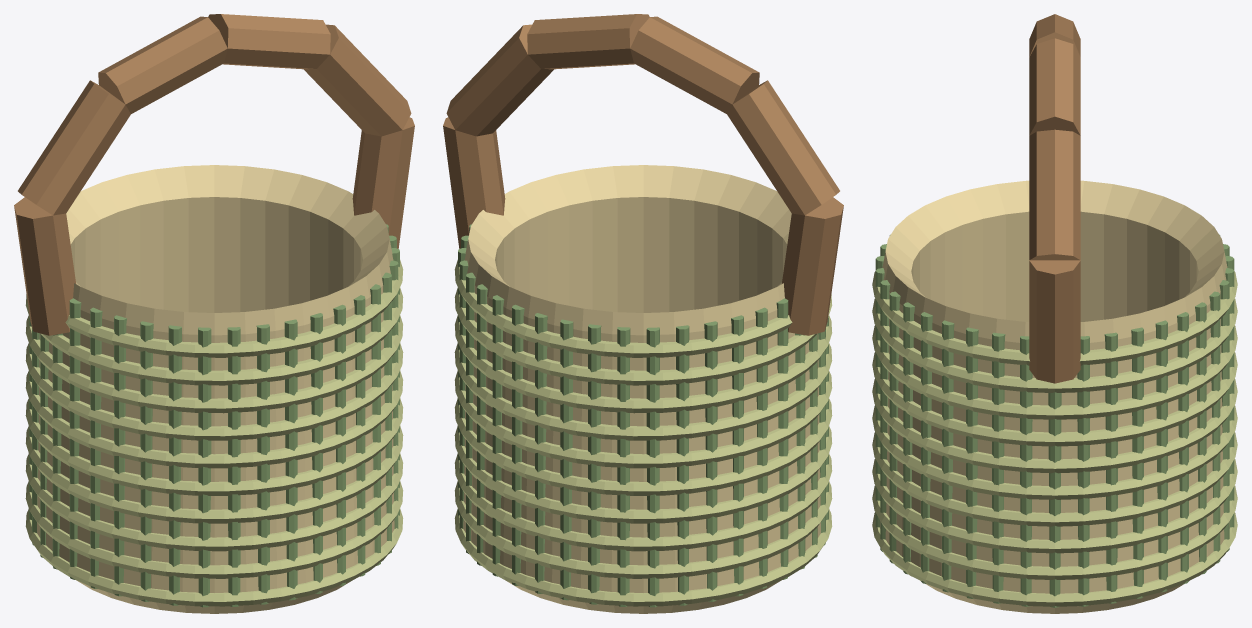
The model's file is bamboo_takekago.glb.
The picture shows the model from 3 angles, left to right: view 1: azimuth 30°, elevation 25°; view 2: azimuth 150°, elevation 25°; view 3: azimuth 270°, elevation 25°; orthographic projection. The views are drawn at different scales.
Visible parts, largest first — view 1: Tall cylindrical bamboo basket, Bent carrying handle_01, Bent carrying handle_02, Bent carrying handle_00, Bent carrying handle_04, Horizontal basket weft.007, Horizontal basket weft.006, Horizontal basket weft.005, Bent carrying handle_03, Horizontal basket weft.004, Horizontal basket weft.003, Horizontal basket weft.002 (+23 smaller); view 2: Tall cylindrical bamboo basket, Bent carrying handle_01, Bent carrying handle_02, Bent carrying handle_00, Bent carrying handle_04, Horizontal basket weft.007, Horizontal basket weft.006, Horizontal basket weft.005, Bent carrying handle_03, Horizontal basket weft.004, Horizontal basket weft.003, Horizontal basket weft.002 (+23 smaller); view 3: Tall cylindrical bamboo basket, Bent carrying handle_04, Bent carrying handle_05, Horizontal basket weft.007, Horizontal basket weft.006, Horizontal basket weft.008, Horizontal basket weft.005, Horizontal basket weft.004, Horizontal basket weft.003, Horizontal basket weft.002, Horizontal basket weft.001, Horizontal basket weft (+22 smaller).
Part boxes in pixels (x1,y1,x2,y2): Tall cylindrical bamboo basket: [37, 165, 394, 613]; Bent carrying handle_01: [18, 80, 130, 215]; Bent carrying handle_02: [98, 16, 227, 113]; Bent carrying handle_00: [14, 197, 75, 335]; Bent carrying handle_04: [304, 24, 411, 136]; Horizontal basket weft.007: [25, 315, 402, 413]; Horizontal basket weft.006: [25, 342, 403, 440]; Horizontal basket weft.005: [25, 370, 403, 468]; Bent carrying handle_03: [208, 14, 330, 69]; Horizontal basket weft.004: [25, 398, 403, 495]; Horizontal basket weft.003: [25, 425, 403, 523]; Horizontal basket weft.002: [25, 453, 403, 551]; Tall cylindrical bamboo basket: [463, 165, 820, 613]; Bent carrying handle_01: [727, 80, 839, 215]; Bent carrying handle_02: [630, 16, 759, 113]; Bent carrying handle_00: [782, 197, 843, 335]; Bent carrying handle_04: [446, 24, 553, 136]; Horizontal basket weft.007: [455, 315, 832, 413]; Horizontal basket weft.006: [454, 342, 832, 440]; Horizontal basket weft.005: [454, 370, 832, 468]; Bent carrying handle_03: [527, 14, 649, 69]; Horizontal basket weft.004: [454, 398, 832, 495]; Horizontal basket weft.003: [454, 425, 832, 523]; Horizontal basket weft.002: [454, 453, 832, 551]; Tall cylindrical bamboo basket: [880, 180, 1229, 613]; Bent carrying handle_04: [1029, 129, 1080, 260]; Bent carrying handle_05: [1029, 260, 1080, 383]; Horizontal basket weft.007: [872, 325, 1237, 419]; Horizontal basket weft.006: [872, 352, 1237, 446]; Horizontal basket weft.008: [872, 298, 1237, 392]; Horizontal basket weft.005: [872, 378, 1237, 473]; Horizontal basket weft.004: [872, 405, 1237, 499]; Horizontal basket weft.003: [872, 432, 1237, 526]; Horizontal basket weft.002: [872, 459, 1237, 553]; Horizontal basket weft.001: [872, 485, 1237, 579]; Horizontal basket weft: [872, 512, 1237, 606].
Bounding box in the file's own units: 1.52 × 1.95 × 1.25.
